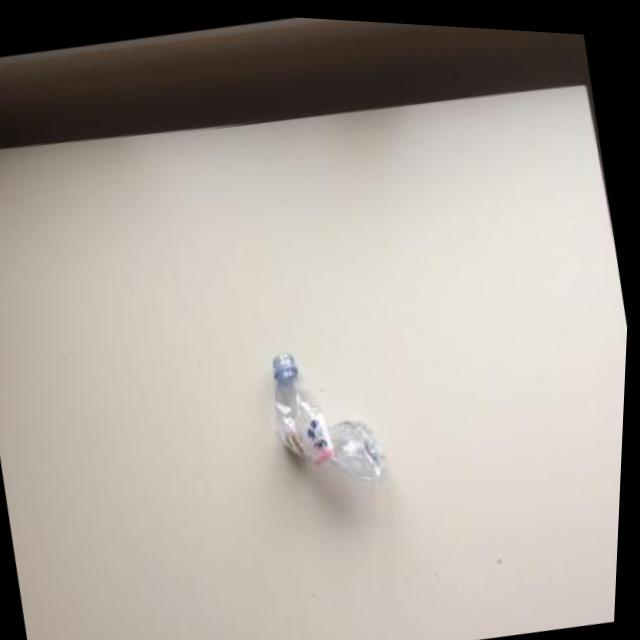plastic: (260, 333, 397, 503)
